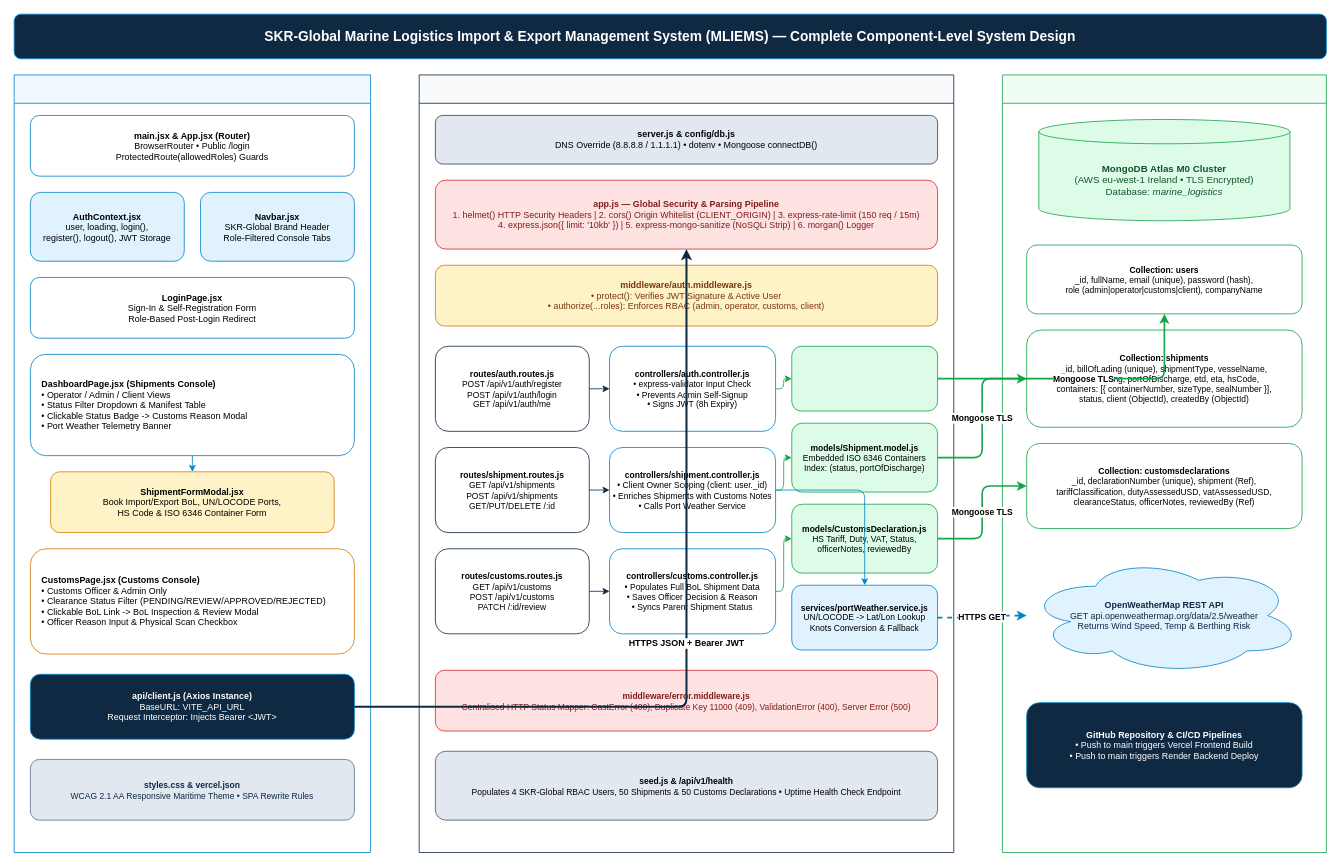
Image size: 1341x867. Some labels were removed from this diagram. Each missing label, with the box of its shape:
APPLICATION TIER: Node.js + Express REST API (Hosted on Render): (418, 74, 954, 853)
CLIENT TIER: React 18 + Vite SPA (Hosted on Vercel Edge): (13, 74, 371, 853)
DATA & EXTERNAL SERVICES TIER: (1002, 74, 1326, 853)
models/User.model.js bcrypt Pre-Save Hook (12 Rounds) select: false on password: (791, 345, 938, 411)
